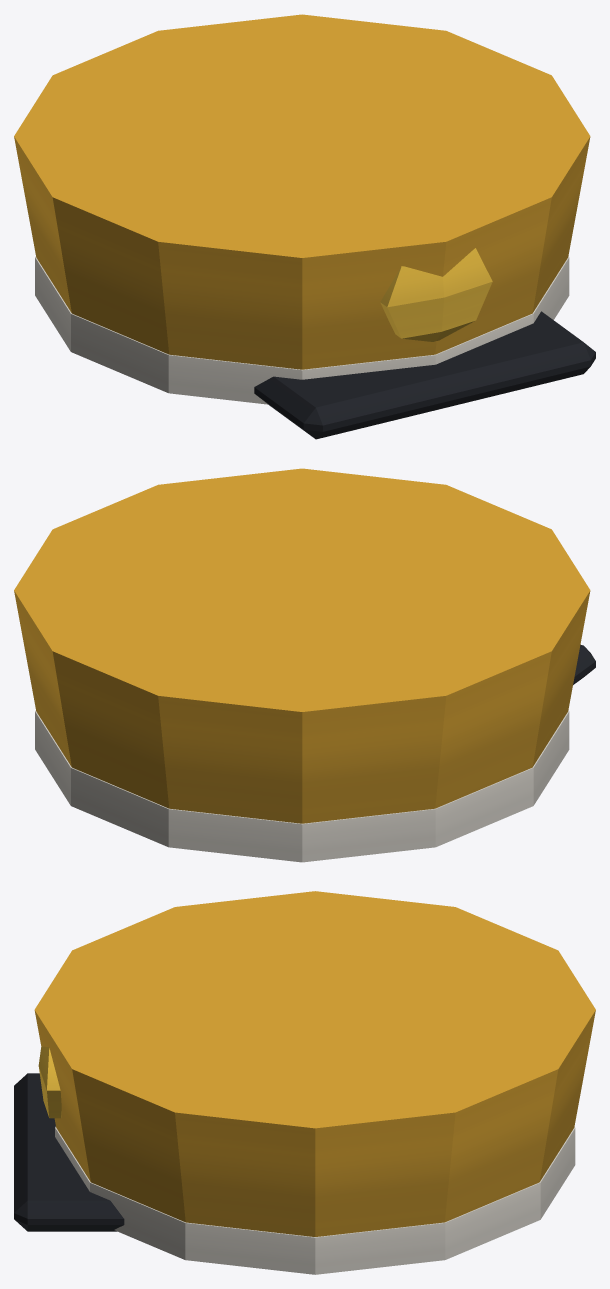
Rendered from Quepe_Dourado.fbx.
The picture shows the model from 3 angles, top to bottom: view 1: azimuth 30°, elevation 25°; view 2: azimuth 150°, elevation 25°; view 3: azimuth 270°, elevation 25°; orthographic projection. The views are drawn at different scales.
Parts seen in each view (by area): view 1: Quepe_Malha; view 2: Quepe_Malha; view 3: Quepe_Malha.
Part boxes in pixels (x1,y1,x2,y2): Quepe_Malha: [14, 14, 595, 439]; Quepe_Malha: [14, 468, 595, 862]; Quepe_Malha: [14, 891, 595, 1274].
Size of the model in its own units: 0.41 by 0.1275 by 0.425.
